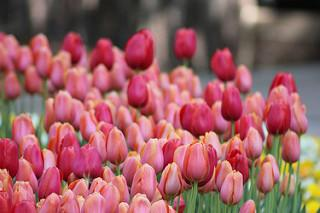tulip: (180, 141, 219, 184), (125, 28, 156, 69), (179, 101, 214, 135), (73, 144, 103, 177), (220, 85, 245, 121), (12, 113, 39, 146), (220, 171, 245, 205), (126, 75, 151, 109), (265, 102, 292, 133)
